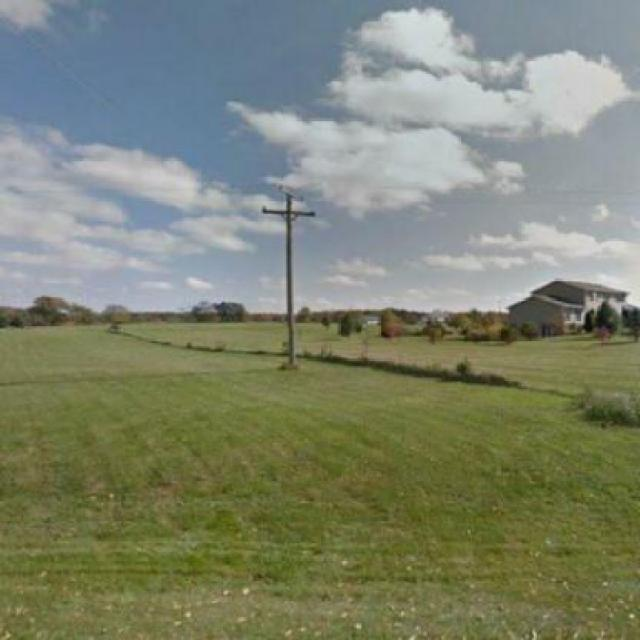pole: (264, 196, 318, 370)
